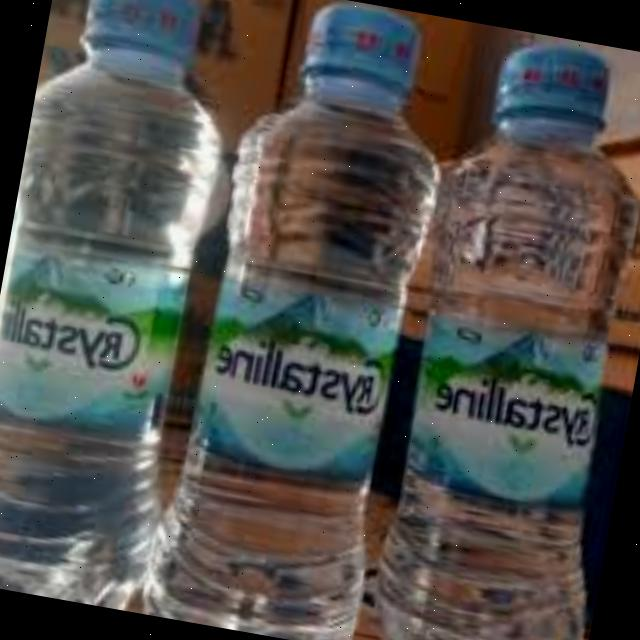trash: (154, 0, 479, 640), (366, 25, 640, 640), (0, 0, 258, 614)
